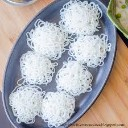idiyappam: (7, 83, 42, 125), (58, 1, 101, 35), (27, 20, 65, 57), (72, 33, 111, 66), (58, 57, 92, 93), (19, 51, 53, 83), (45, 90, 74, 122)
